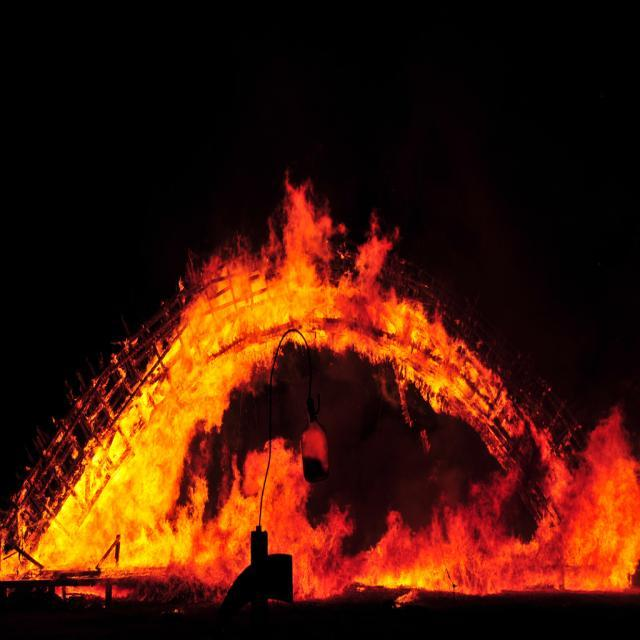Fire: (66, 375, 234, 576), (204, 245, 423, 358), (536, 439, 632, 601), (387, 513, 521, 576), (242, 464, 328, 556)
